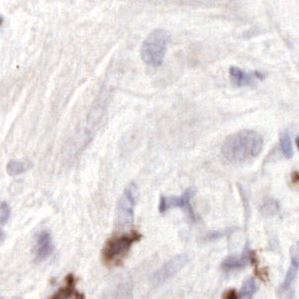Lymphocyte: (99, 230, 145, 266)
